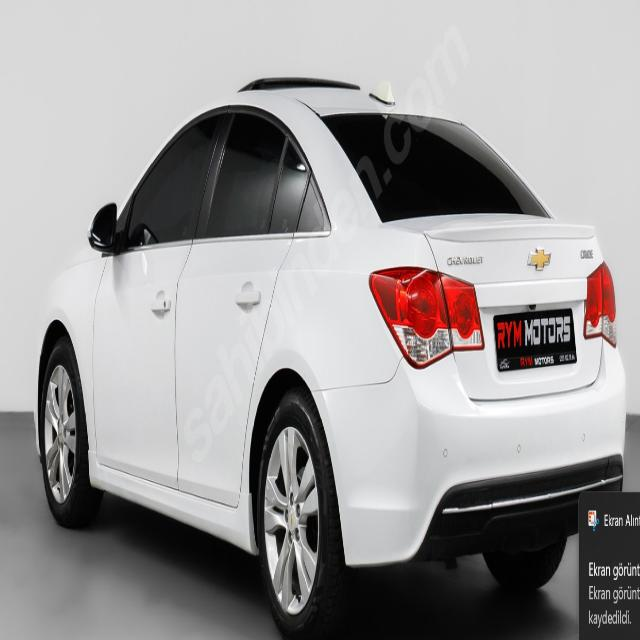chevrolet: (524, 242, 552, 273)
